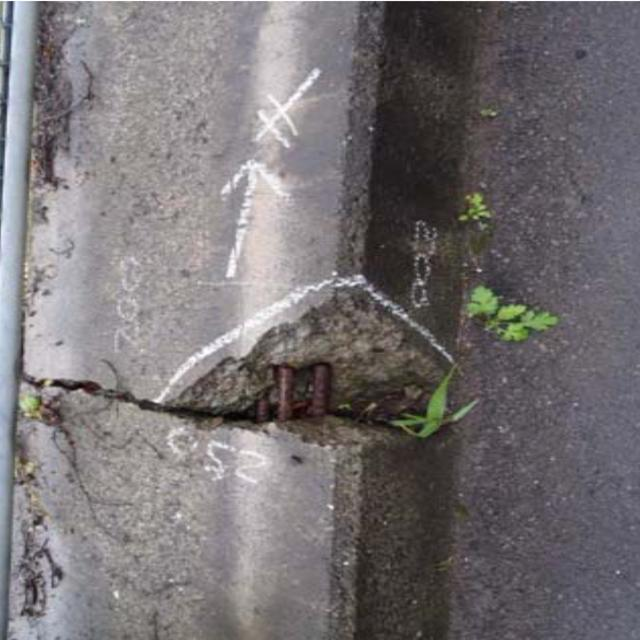spalling: (146, 246, 468, 473)
